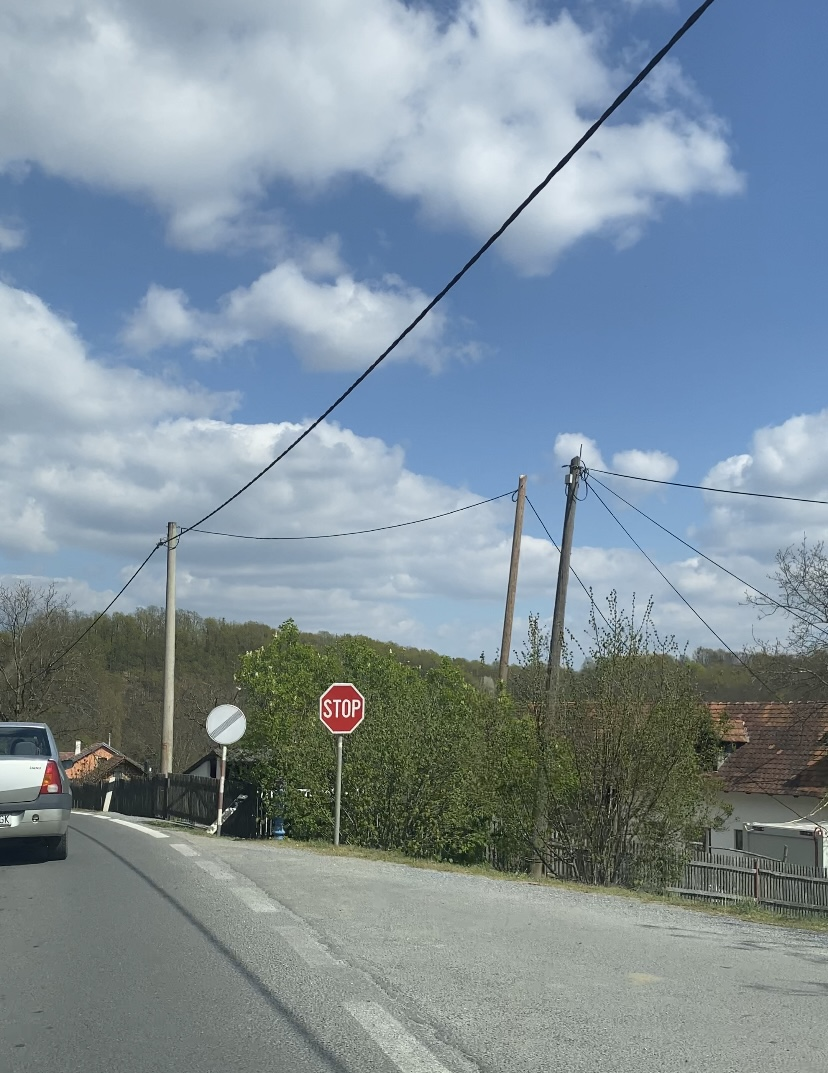Obavezno zaustavljanje: (319, 683, 365, 734)
